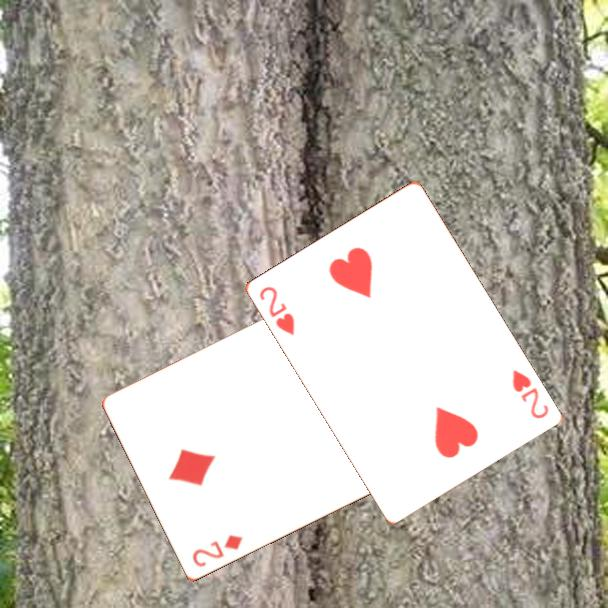d02: (188, 532, 245, 571)
h02: (508, 366, 551, 422), (255, 282, 297, 338)
